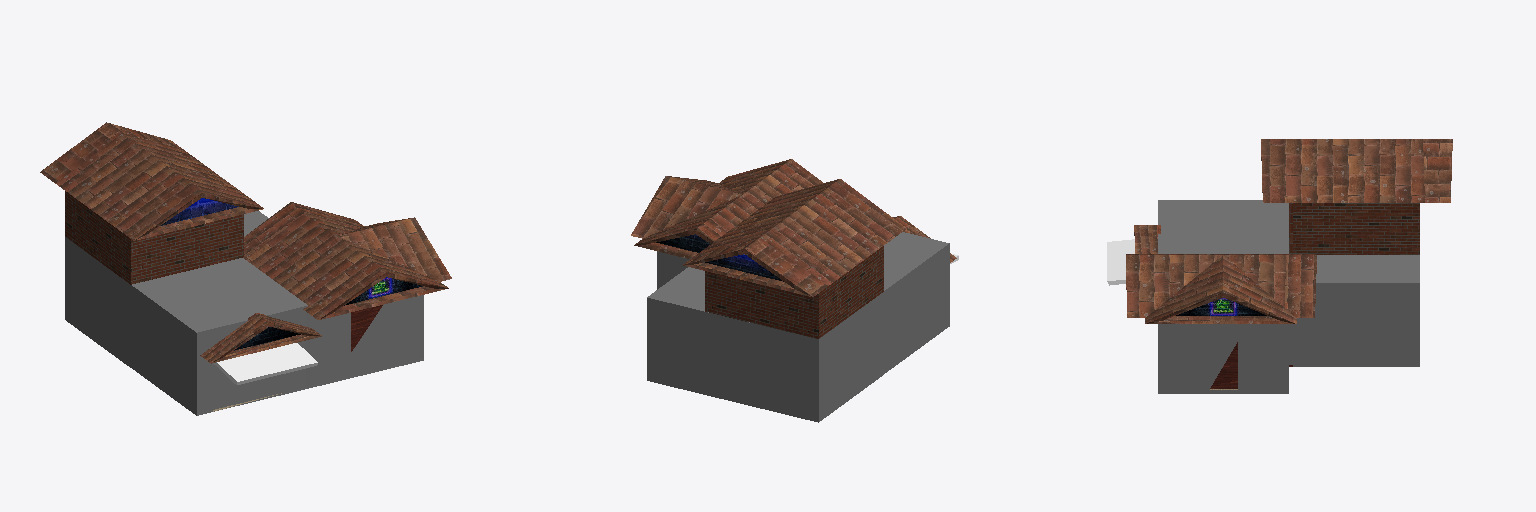
3 renders of one model, left to right at view 1: azimuth 30°, elevation 25°; view 2: azimuth 150°, elevation 25°; view 3: azimuth 270°, elevation 25°, orthographic.
Visible parts, largest first — view 1: Sala2_Cube_002_Sala2_Cube_002_Material_001, Plane_001_Plane_006_Plane_001_Plane_006_None, TechoTriangular1_Plane_TechoTriangular1_Plane_None, Sala2_001_Cube_007_Sala2_001_Cube_007_Material_001, Sala1_Cube_Sala1_Cube_Material_001, Sala3_Cube_005_Sala3_Cube_005_Material_001, TechoTriangular2_Plane_002_TechoTriangular2_Plane_002_None, TechoTriangular1_002_Plane_005_TechoTriangular1_002_Plane_005_No, PuertaCochera_Cube_004_None, Plane_002_Plane_003_Plane_002_Plane_003_None; view 2: Sala3_Cube_005_Sala3_Cube_005_Material_001, Plane_001_Plane_006_Plane_001_Plane_006_None, Sala2_001_Cube_007_Sala2_001_Cube_007_Material_001, Sala2_Cube_002_Sala2_Cube_002_Material_001, TechoTriangular1_Plane_TechoTriangular1_Plane_None, TechoTriangular2_Plane_002_TechoTriangular2_Plane_002_None, Plane_002_Plane_003_Plane_002_Plane_003_None, Sala1_Cube_Sala1_Cube_Material_001; view 3: Sala3_Cube_005_Sala3_Cube_005_Material_001, Plane_001_Plane_006_Plane_001_Plane_006_None, Sala1_Cube_Sala1_Cube_Material_001, Sala2_Cube_002_Sala2_Cube_002_Material_001, Sala2_001_Cube_007_Sala2_001_Cube_007_Material_001, TechoTriangular2_Plane_002_TechoTriangular2_Plane_002_None, TechoTriangular1_Plane_TechoTriangular1_Plane_None, Plane_002_Plane_003_Plane_002_Plane_003_None, PuertaCochera_Cube_004_None, TechoTriangular1_002_Plane_005_TechoTriangular1_002_Plane_005_No.
Part boxes in pixels (left/top/right/bottom): Sala2_Cube_002_Sala2_Cube_002_Material_001: left=131, top=258, right=309, bottom=415; Plane_001_Plane_006_Plane_001_Plane_006_None: left=40, top=122, right=263, bottom=240; TechoTriangular1_Plane_TechoTriangular1_Plane_None: left=245, top=213, right=448, bottom=319; Sala2_001_Cube_007_Sala2_001_Cube_007_Material_001: left=65, top=191, right=243, bottom=284; Sala1_Cube_Sala1_Cube_Material_001: left=310, top=295, right=423, bottom=387; Sala3_Cube_005_Sala3_Cube_005_Material_001: left=65, top=211, right=268, bottom=367; TechoTriangular2_Plane_002_TechoTriangular2_Plane_002_None: left=339, top=217, right=451, bottom=281; TechoTriangular1_002_Plane_005_TechoTriangular1_002_Plane_005_No: left=200, top=313, right=321, bottom=363; PuertaCochera_Cube_004_None: left=213, top=343, right=317, bottom=384; Plane_002_Plane_003_Plane_002_Plane_003_None: left=243, top=202, right=364, bottom=258; Sala3_Cube_005_Sala3_Cube_005_Material_001: left=647, top=267, right=883, bottom=422; Plane_001_Plane_006_Plane_001_Plane_006_None: left=683, top=179, right=906, bottom=296; Sala2_001_Cube_007_Sala2_001_Cube_007_Material_001: left=705, top=246, right=883, bottom=338; Sala2_Cube_002_Sala2_Cube_002_Material_001: left=884, top=232, right=949, bottom=373; TechoTriangular1_Plane_TechoTriangular1_Plane_None: left=661, top=159, right=822, bottom=230; TechoTriangular2_Plane_002_TechoTriangular2_Plane_002_None: left=631, top=176, right=741, bottom=238; Plane_002_Plane_003_Plane_002_Plane_003_None: left=634, top=218, right=728, bottom=258; Sala1_Cube_Sala1_Cube_Material_001: left=657, top=251, right=689, bottom=289; Sala3_Cube_005_Sala3_Cube_005_Material_001: left=1289, top=255, right=1419, bottom=366; Plane_001_Plane_006_Plane_001_Plane_006_None: left=1261, top=139, right=1452, bottom=202; Sala1_Cube_Sala1_Cube_Material_001: left=1158, top=324, right=1288, bottom=393; Sala2_Cube_002_Sala2_Cube_002_Material_001: left=1158, top=200, right=1288, bottom=253; Sala2_001_Cube_007_Sala2_001_Cube_007_Material_001: left=1289, top=203, right=1419, bottom=254; TechoTriangular2_Plane_002_TechoTriangular2_Plane_002_None: left=1145, top=255, right=1296, bottom=323; TechoTriangular1_Plane_TechoTriangular1_Plane_None: left=1126, top=254, right=1285, bottom=317; Plane_002_Plane_003_Plane_002_Plane_003_None: left=1285, top=254, right=1316, bottom=317; PuertaCochera_Cube_004_None: left=1107, top=239, right=1134, bottom=285; TechoTriangular1_002_Plane_005_TechoTriangular1_002_Plane_005_No: left=1134, top=225, right=1160, bottom=253.
Size of the model in its own units: 68.93 by 43.25 by 78.97.
9 materials, 6 textured.